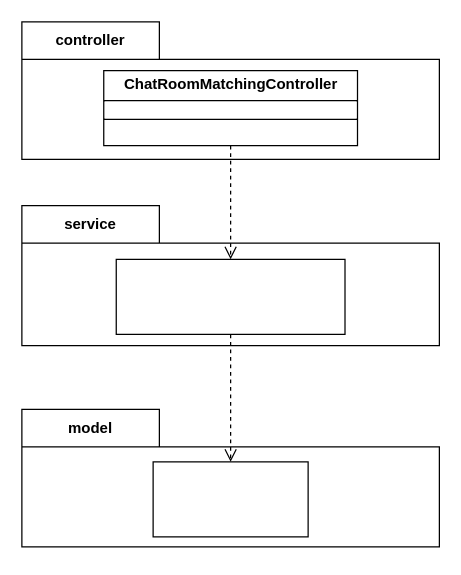
Image size: 461x575. Some labels were removed from this diagram. Each missing label, with the centre of its shape:
"ChatRoomMatchingService" goes at (x=230, y=296).
"PeerUserInfo" goes at (x=230, y=499).
